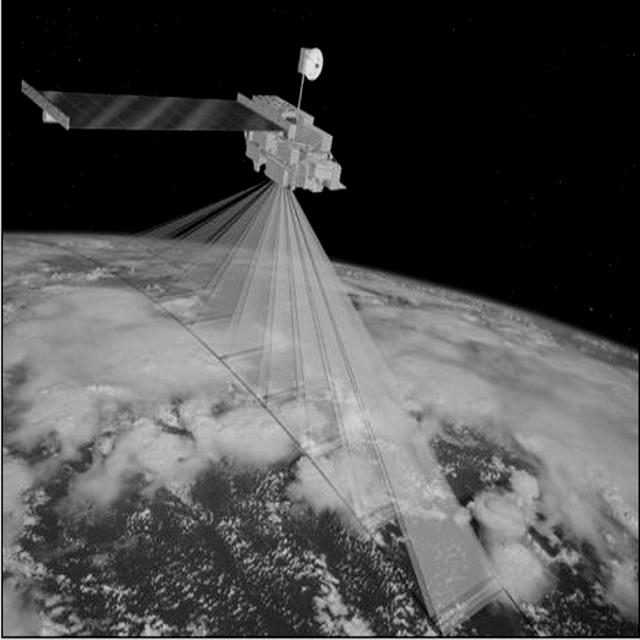satellite: (11, 35, 518, 639)
